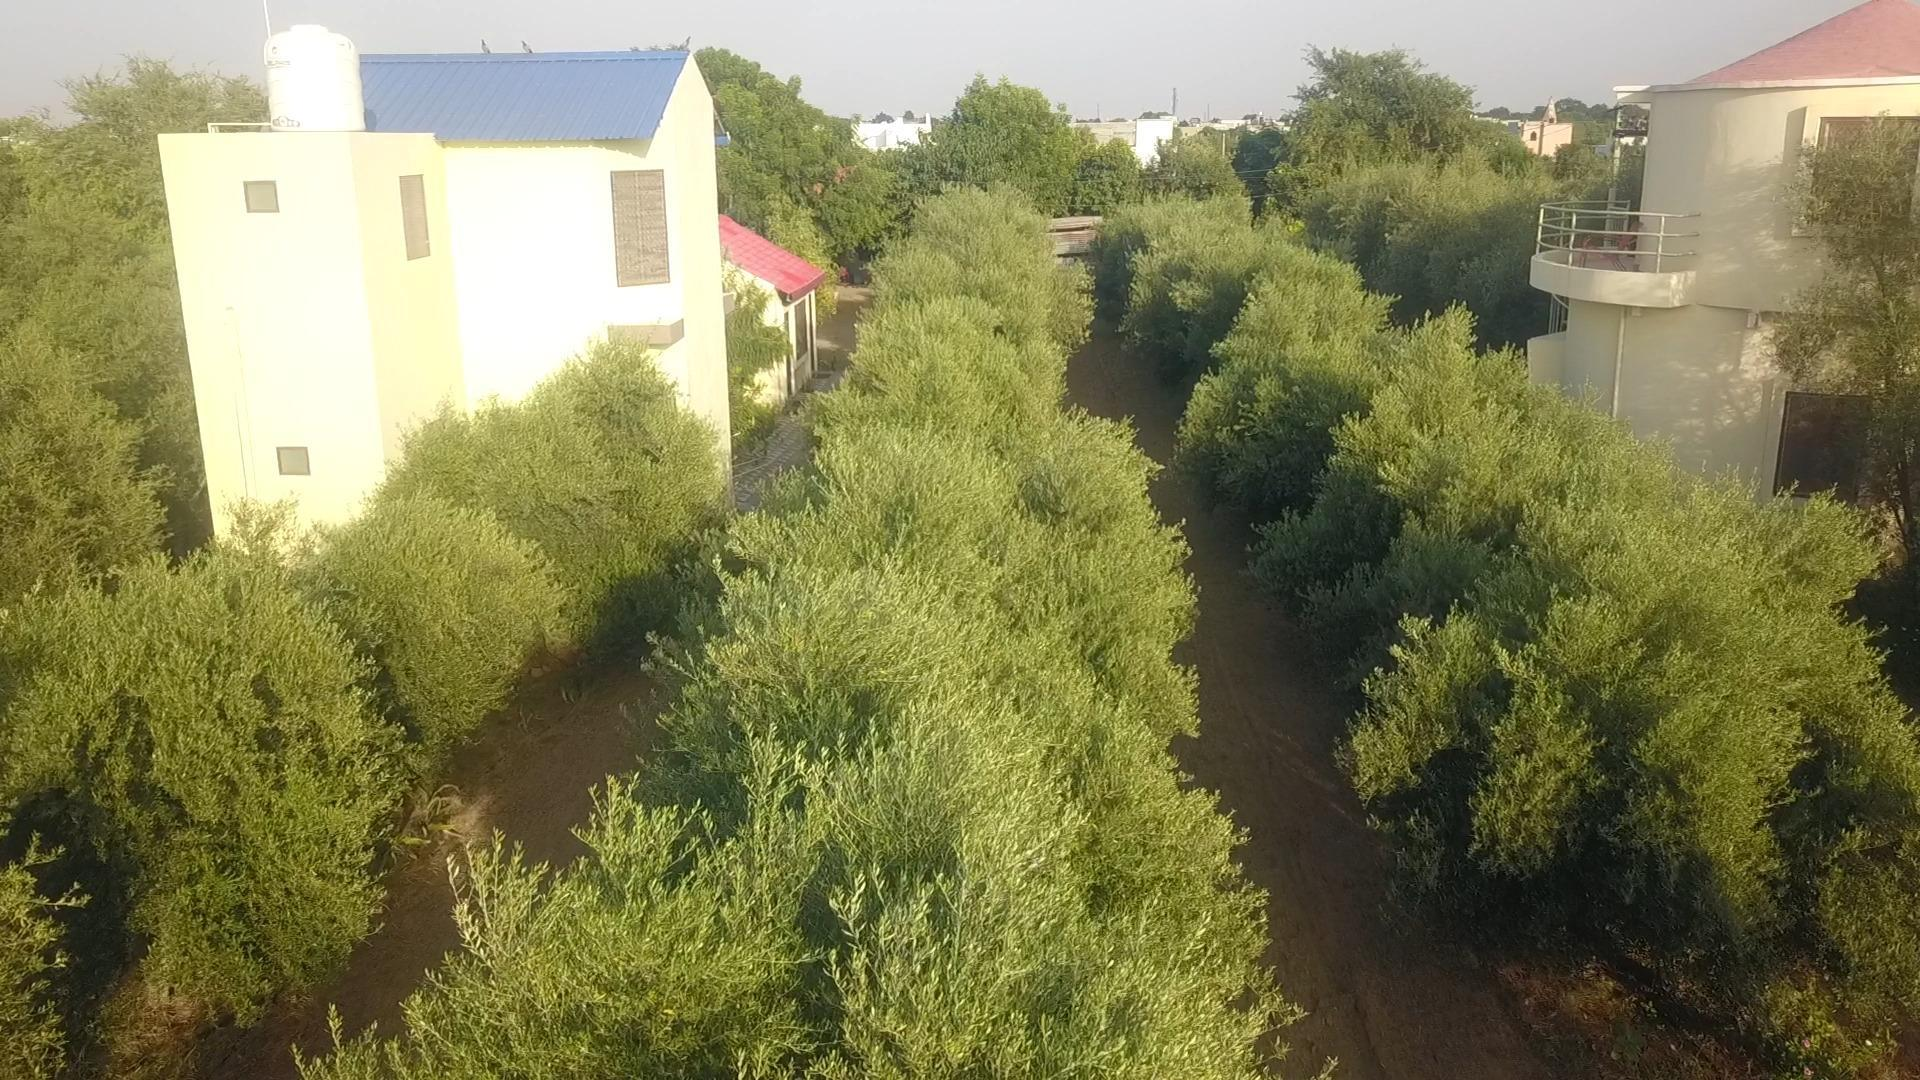canopy: (301, 190, 1919, 1079), (0, 340, 728, 1021)
road: (1065, 320, 1549, 1079), (191, 649, 663, 1079)
